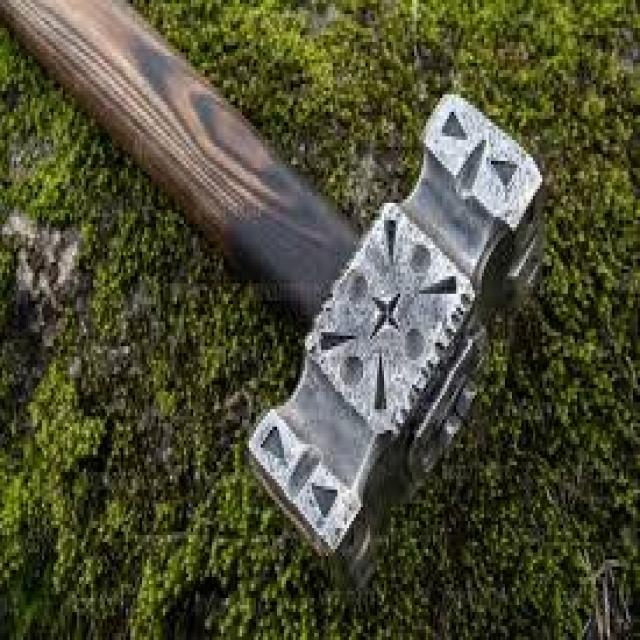hammer: (0, 0, 552, 602)
